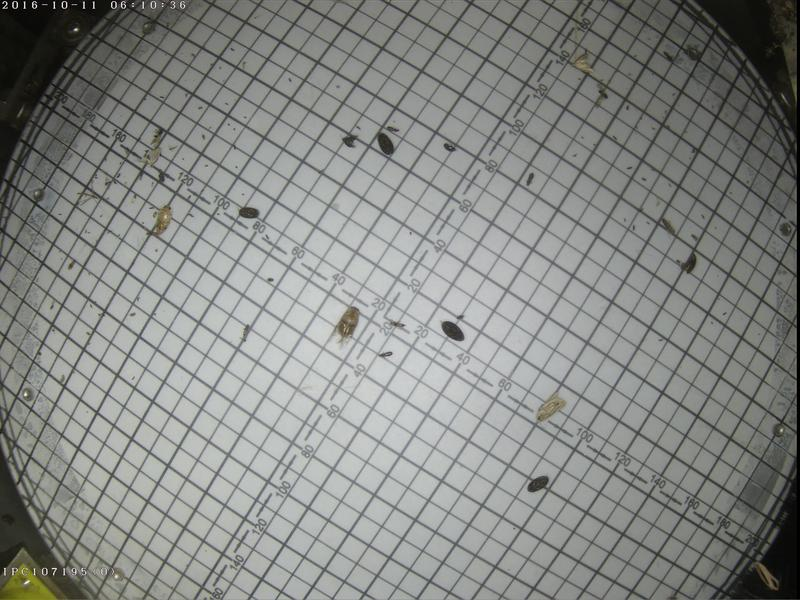Spodoptera exigua: (529, 387, 566, 422)
